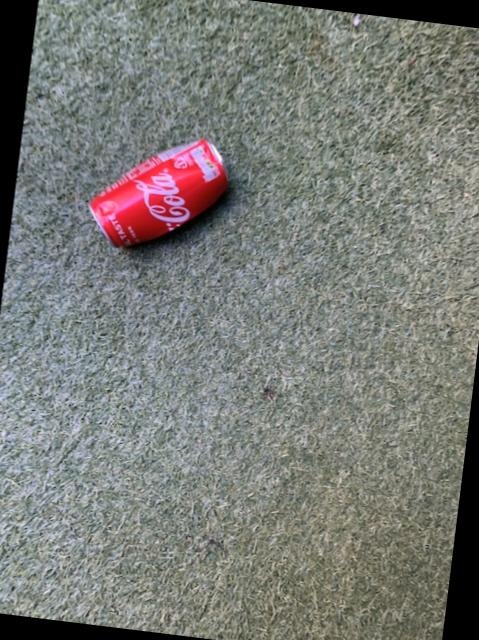metal: (89, 140, 227, 246)
